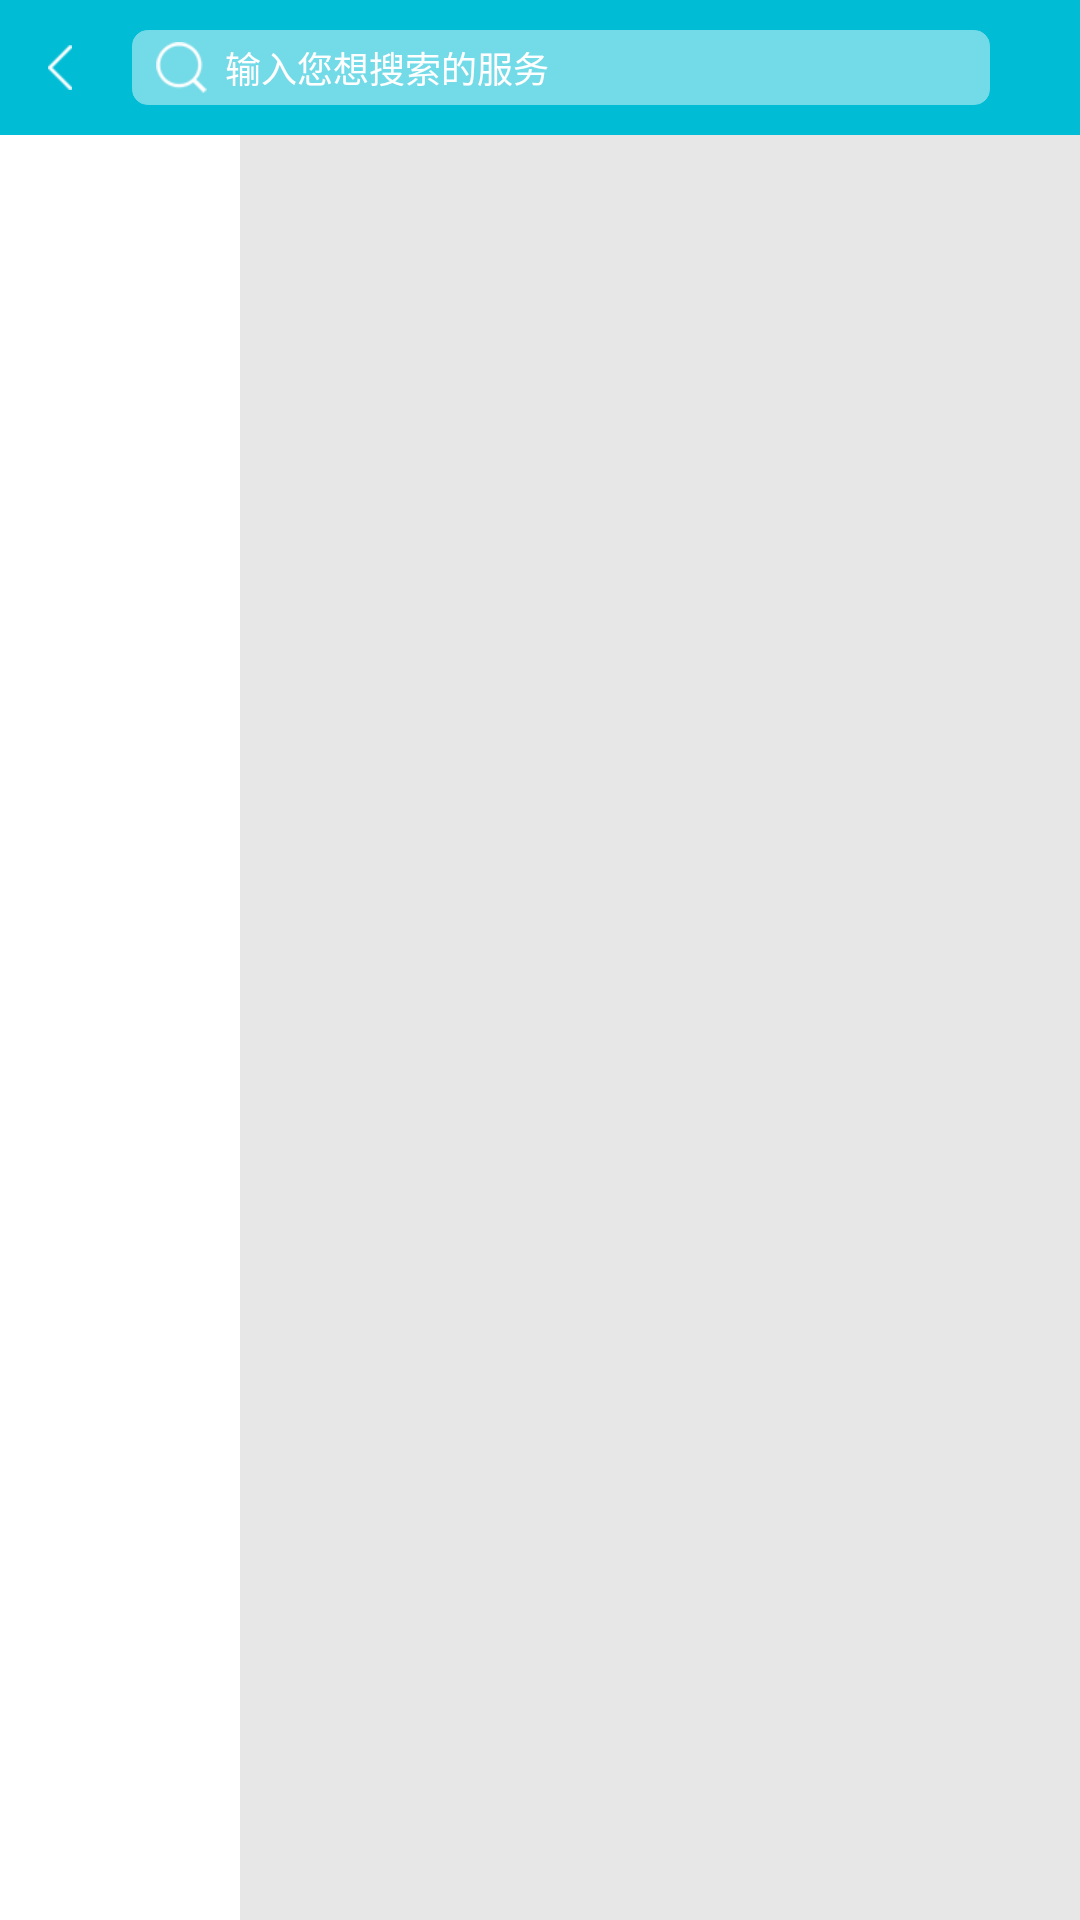

Icons on this 1080x1920 Android screen, each with the point to tap as (x,y):
back: (60,67)
